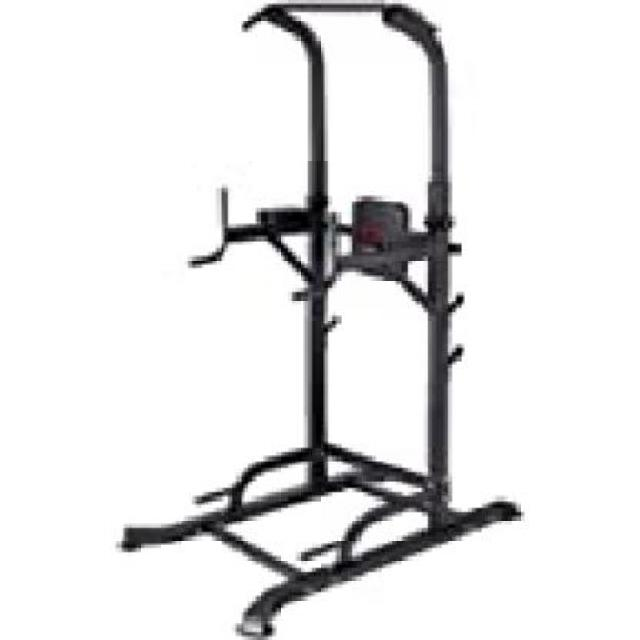chinning dipping: (120, 1, 526, 637)
